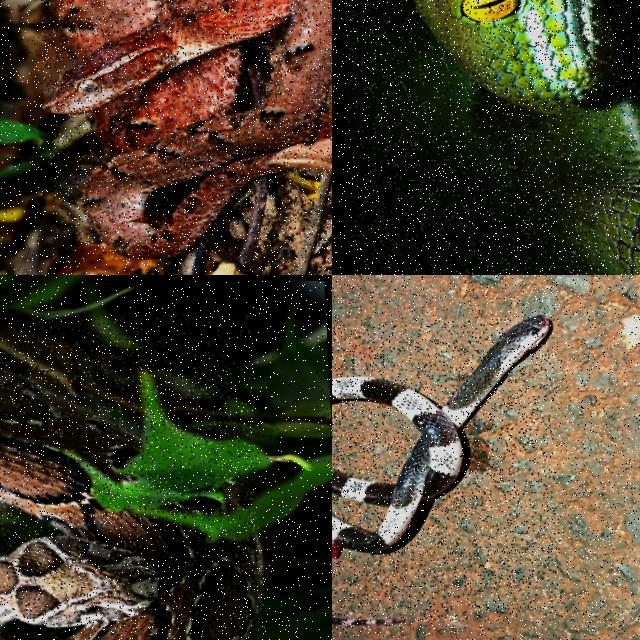Bungarus candidus: (332, 315, 550, 552)
Calloselasma rhodostoma: (45, 0, 331, 257)
Daboia siamensis: (0, 368, 263, 639)
Trimeresurus macrops: (343, 0, 639, 274)
snake: (343, 0, 639, 274), (45, 0, 331, 257), (0, 368, 263, 639), (332, 315, 550, 552)
